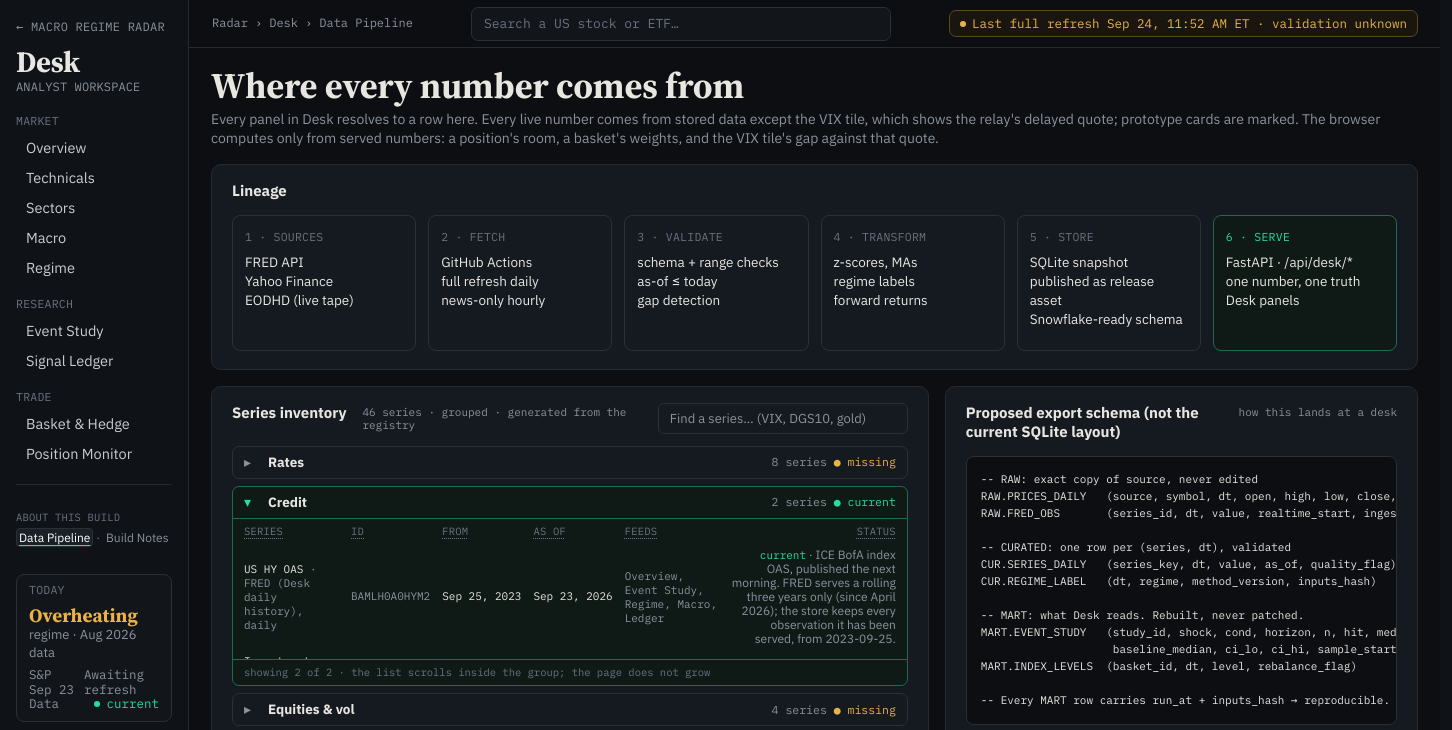
it: Data Pipeline tab › a group opens by click and by ?group=, its rows in a scrolling region
Check: the text "showing 2 of 2 · the list scrolls inside the group; the page does not grow" is shown, box [233,659,907,685]
Click the button "▸ Rates 8 series ● missing": (286, 462) [233,447,907,478]
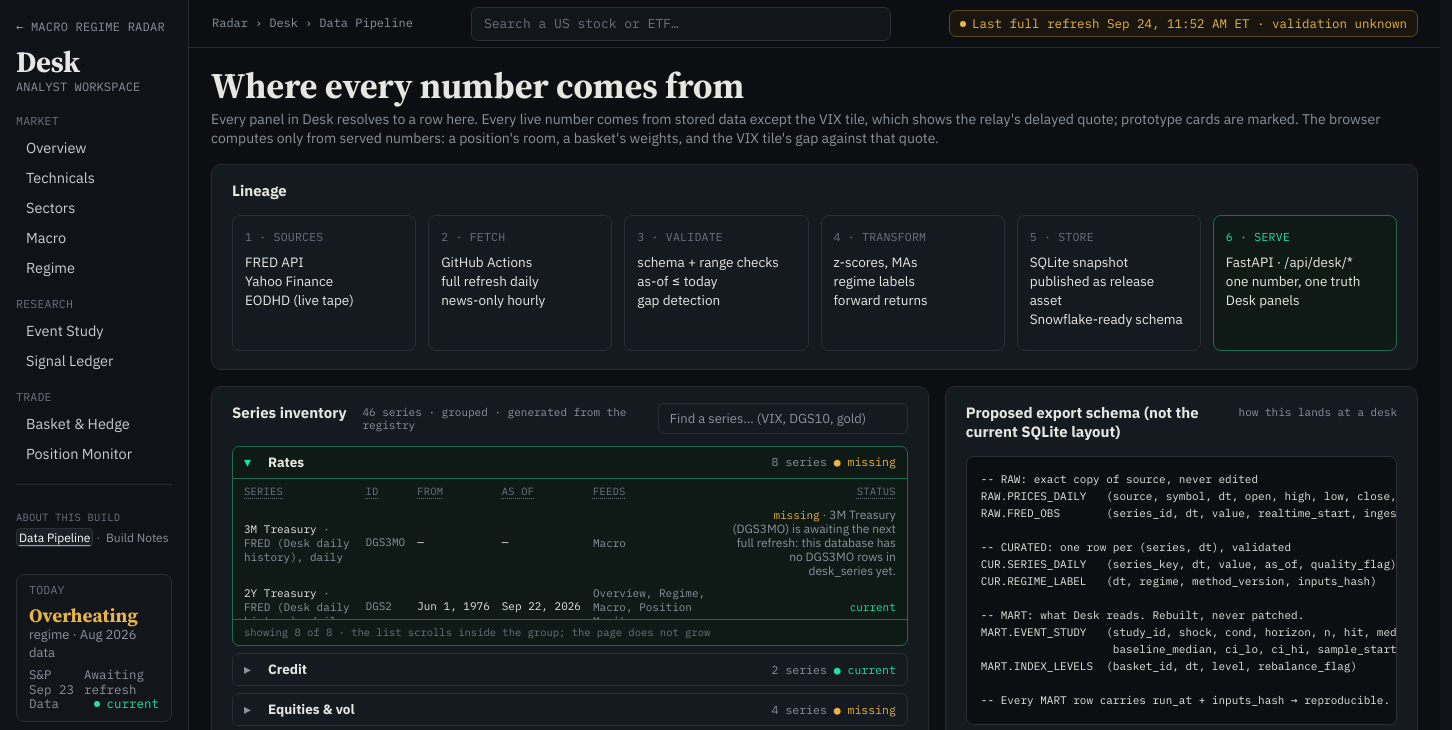
Check: the element named "Rates series" is shown, box [233,478,907,619]
